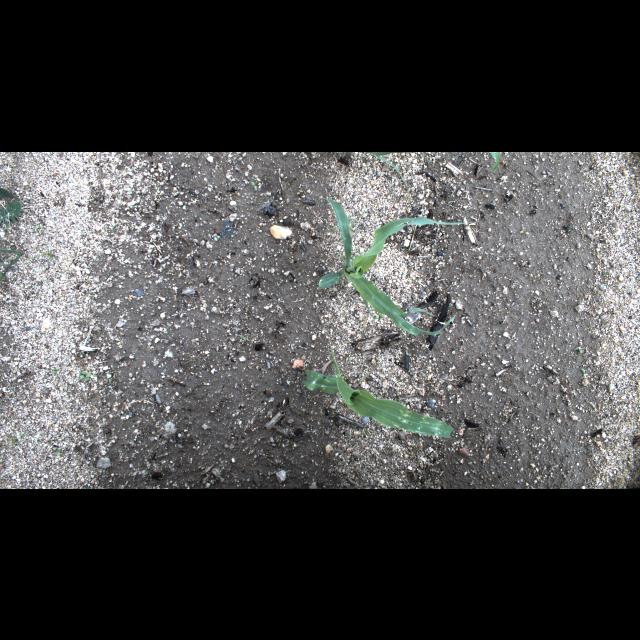crop: (317, 198, 473, 336), (302, 339, 453, 437), (340, 151, 416, 203), (490, 152, 500, 172)
weed: (326, 199, 370, 229), (0, 186, 22, 228), (24, 239, 52, 267), (0, 248, 24, 280), (0, 433, 28, 449), (48, 366, 62, 382), (79, 370, 91, 380), (101, 376, 115, 384), (56, 447, 62, 455), (251, 181, 257, 189), (376, 311, 384, 317), (573, 348, 585, 352), (36, 434, 42, 440), (214, 234, 220, 240), (349, 255, 355, 261), (359, 250, 365, 256), (35, 225, 43, 228), (240, 334, 244, 340), (580, 368, 586, 372), (338, 255, 339, 259)
